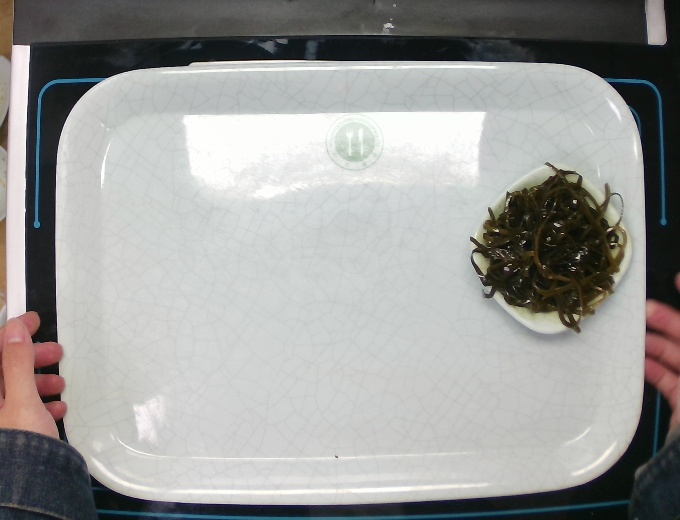JYsf-Si_Fang_Die: (468, 160, 636, 338)
